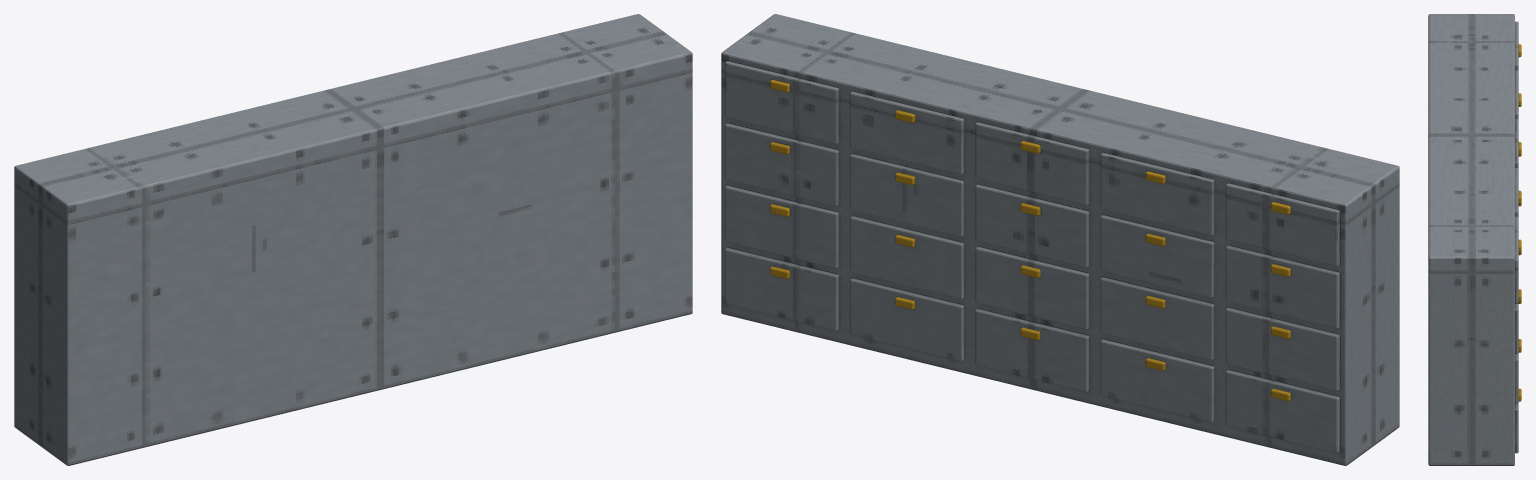
File: base_file_cabinets.glb
3 views of the same model, side by side, from view 1: azimuth 30°, elevation 25°; view 2: azimuth 150°, elevation 25°; view 3: azimuth 270°, elevation 25° (orthographic). The views are drawn at different scales.
Visible parts, largest first — view 1: base_file_cabinets; view 2: base_file_cabinets; view 3: base_file_cabinets.
Boxes of the visible parts, <box> form: base_file_cabinets: <box>14,14,692,465</box>; base_file_cabinets: <box>721,14,1399,465</box>; base_file_cabinets: <box>1428,14,1521,465</box>.
Bounding box in the file's own units: 4 × 1.6 × 0.645.
2 materials, 2 textured.
